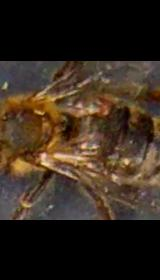varroa_mite: (87, 97, 122, 119)
